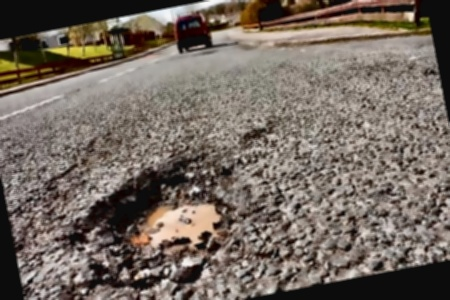pothole: (56, 144, 265, 300)
